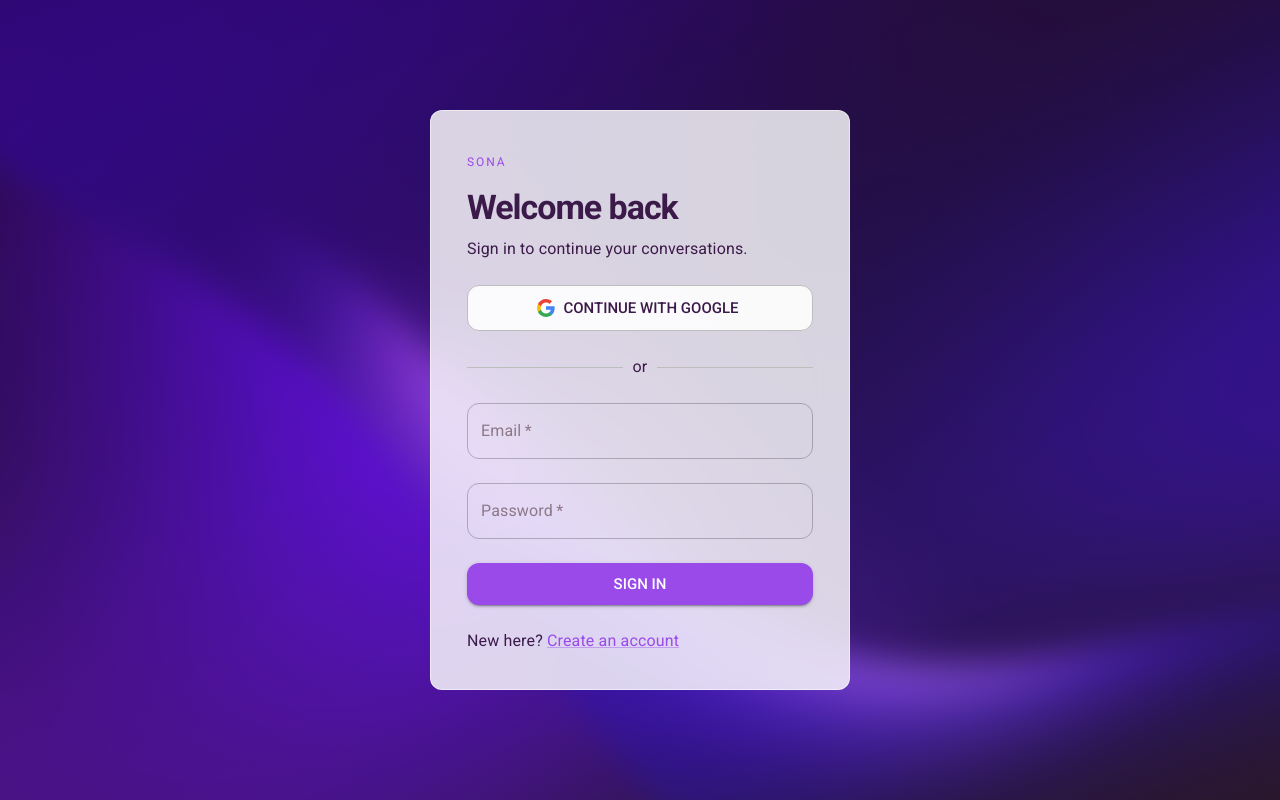
Test: shows a reachable-API error instead of Failed to fetch
Check: the heading "Welcome back" is shown, box [467, 186, 678, 226]
In the field labelled "Email *": (640, 431) [467, 403, 813, 459], type "admin@example.com"
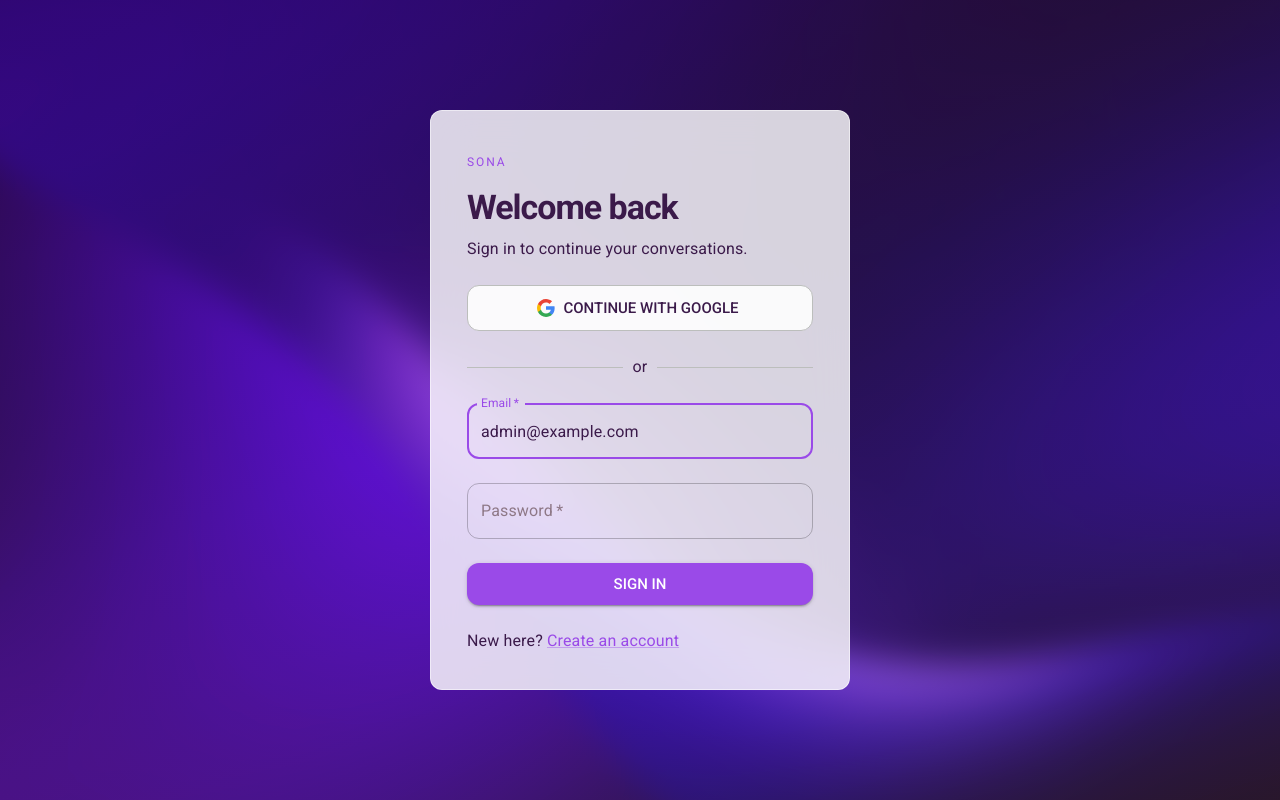
In the password field labelled "Password *": (640, 511) [467, 483, 813, 539], type "password!123"
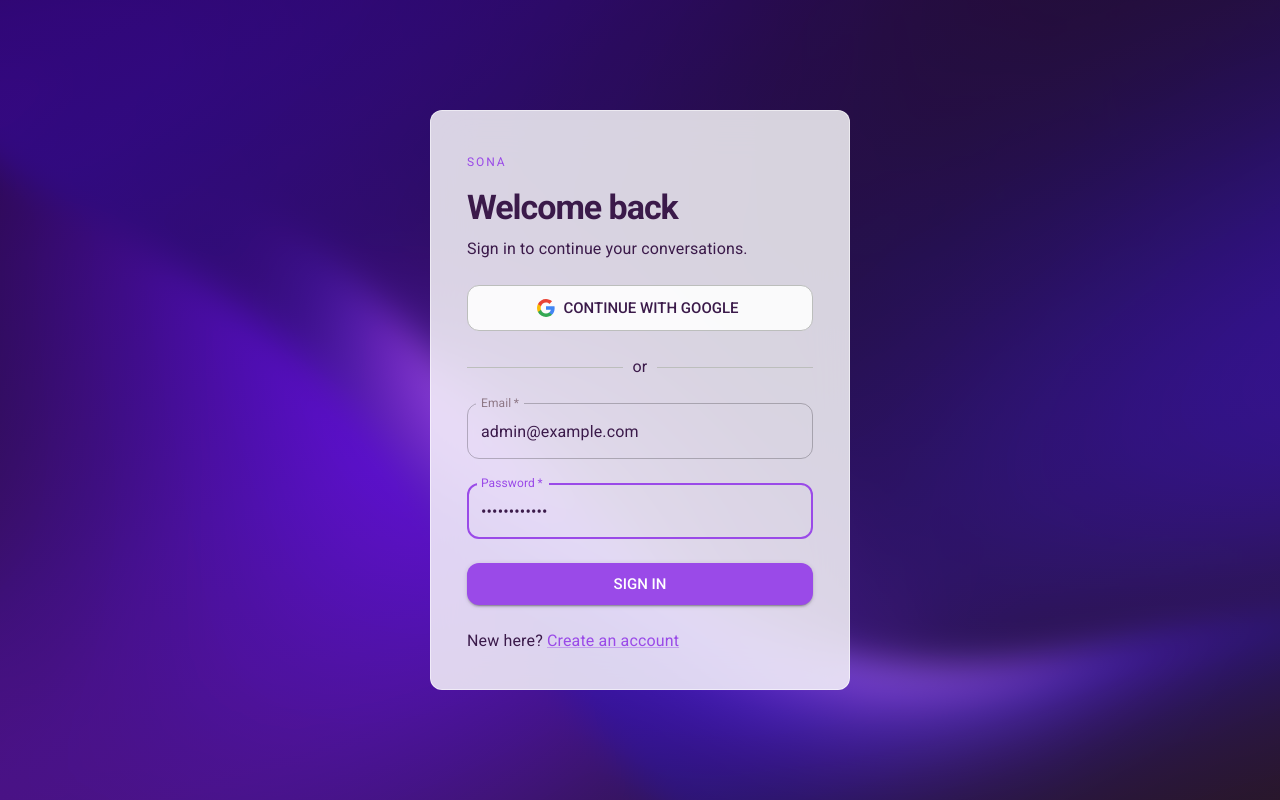
Click the button "Sign in": (640, 584) [467, 563, 813, 605]
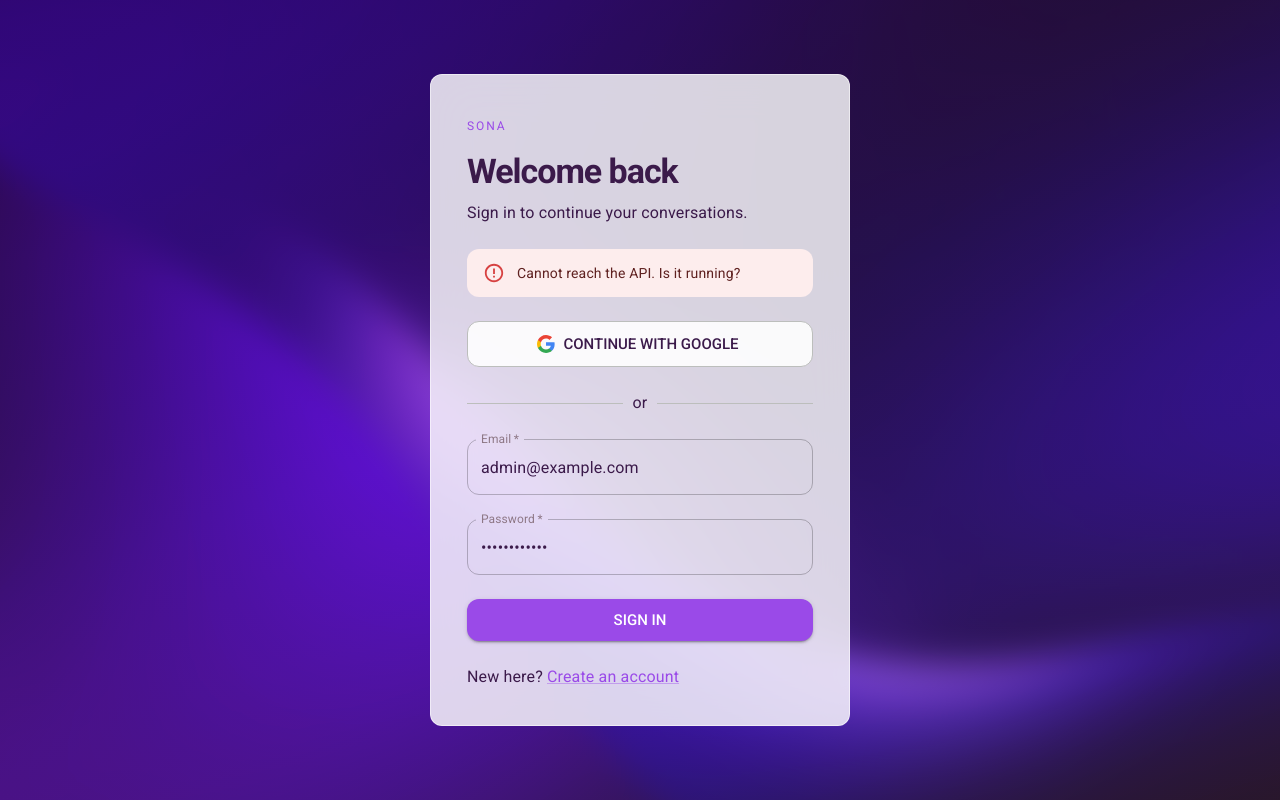
Check: the text "Cannot reach the API. Is it running?" is shown, box [517, 264, 740, 280]
